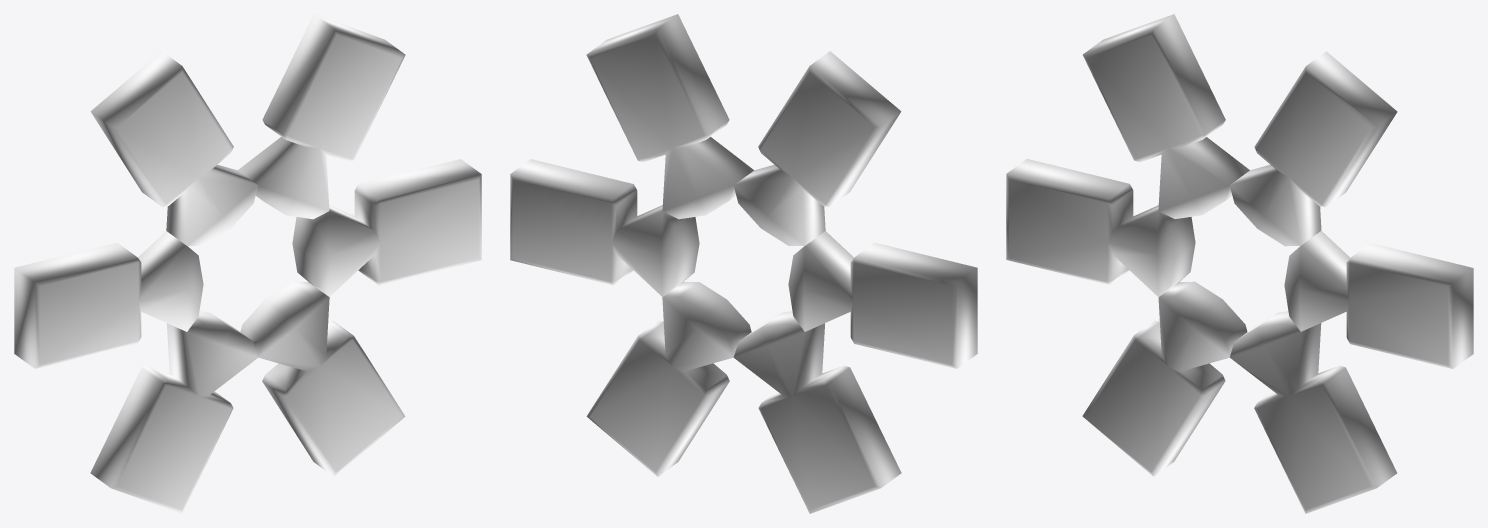
The model's file is icon.ico.obj.
3 renders of one model, left to right at view 1: azimuth 30°, elevation 25°; view 2: azimuth 150°, elevation 25°; view 3: azimuth 330°, elevation 25°, orthographic.
Size of the model in its own units: 4.18 by 4 by 0.3696.
Materials: 1 (1 with a texture image).
